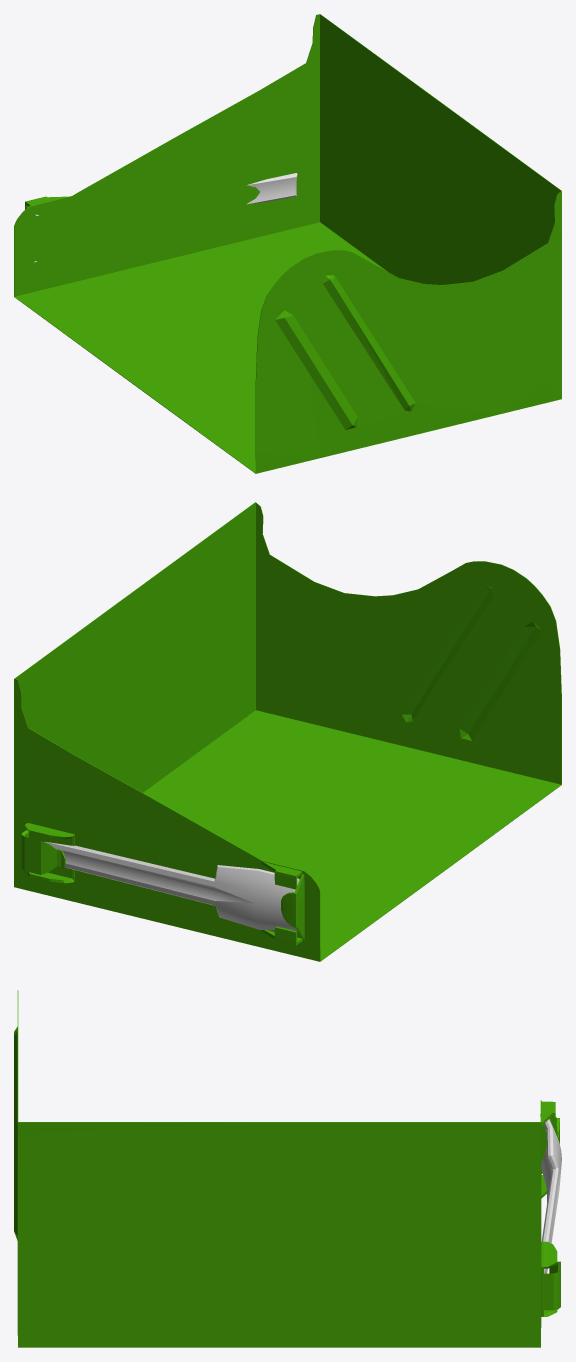
File: Лопатка и нижняя крышка.FBX
3 views of the same model, one above another, from view 1: azimuth 30°, elevation 25°; view 2: azimuth 150°, elevation 25°; view 3: azimuth 270°, elevation 25° (orthographic). The views are drawn at different scales.
Visible parts, largest first — view 1: Внеш крышка +, Лопатка; view 2: Внеш крышка +, Лопатка, Object038; view 3: Внеш крышка +, Лопатка, Object038.
Boxes of the visible parts, <box> form: Внеш крышка +: <box>14,14,561,473</box>; Лопатка: <box>34,173,297,262</box>; Внеш крышка +: <box>14,502,561,961</box>; Лопатка: <box>44,841,299,930</box>; Object038: <box>21,830,65,874</box>; Внеш крышка +: <box>14,990,559,1347</box>; Лопатка: <box>540,1114,561,1273</box>; Object038: <box>544,1261,560,1310</box>.
Bounding box in the file's own units: 60.17 × 39.12 × 86.11.
